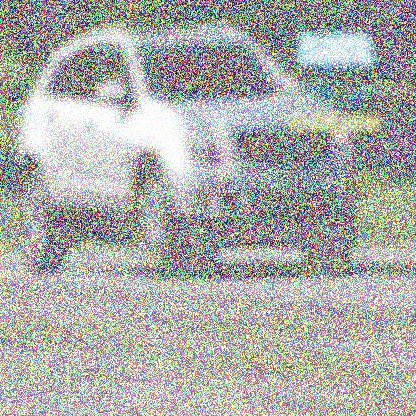Vehicle: (15, 24, 361, 283)
